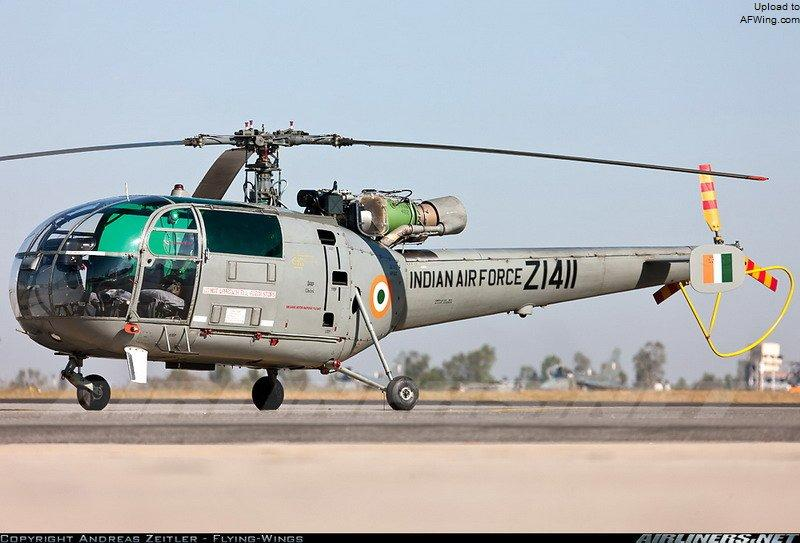airplane: (4, 119, 790, 414)
